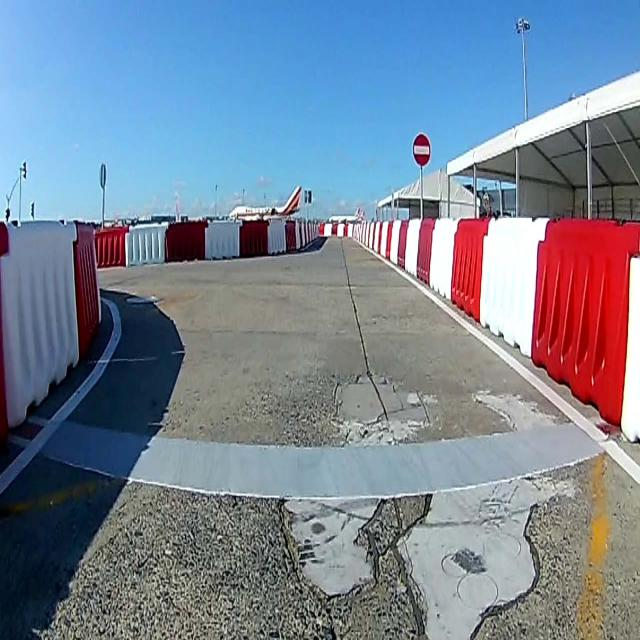girisyok: (411, 130, 431, 169)
